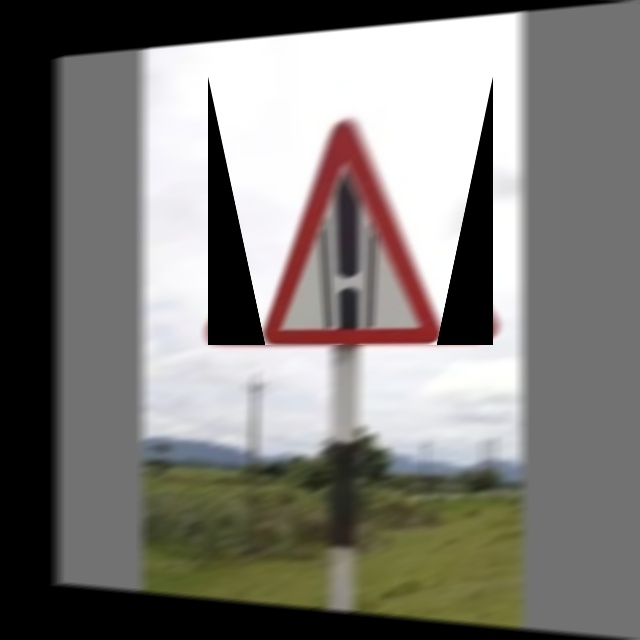Gap_in_Median: (208, 76, 493, 345)
